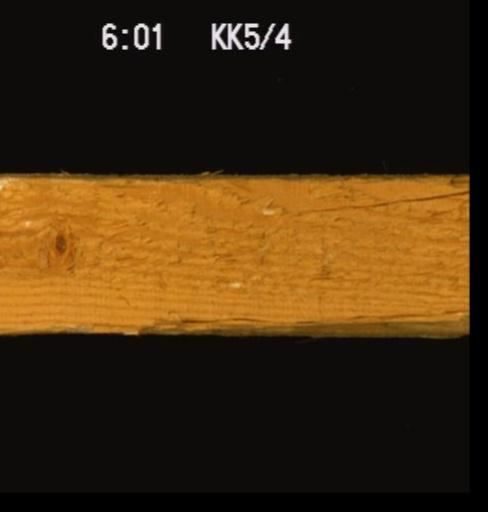small_knot: (46, 222, 75, 262)
split: (287, 187, 467, 219)
wave: (131, 304, 467, 333)
